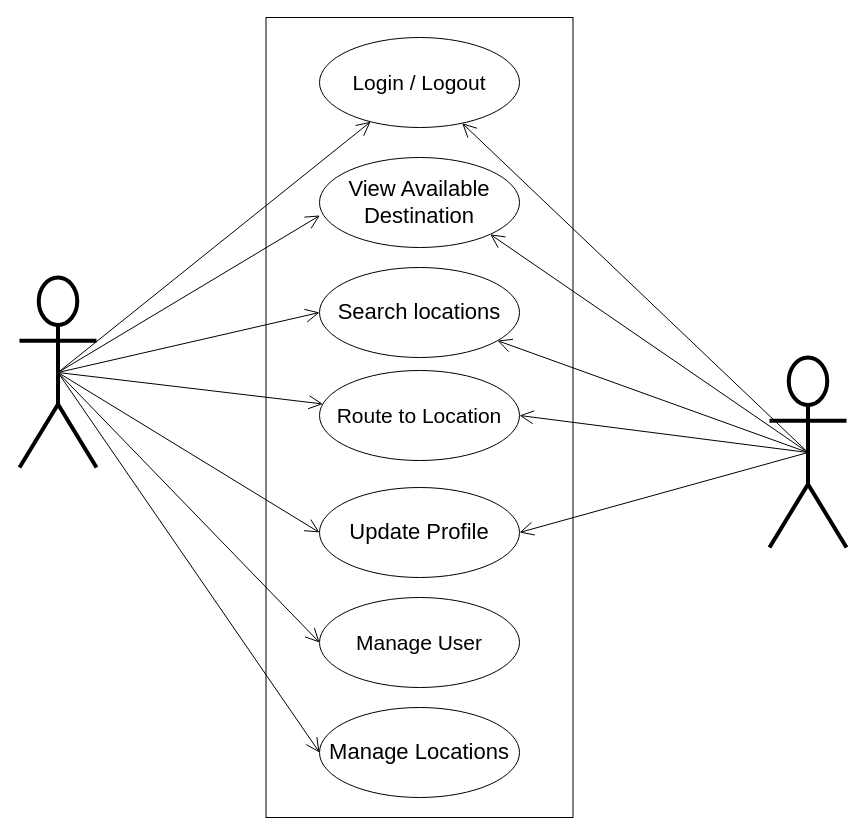
The diagram is 865 pixels wide and 835 high, and some of its shapes have lost their labels. Each missing label, with the centre of its shape:
Admin: [57,372]
Users: [807,452]
